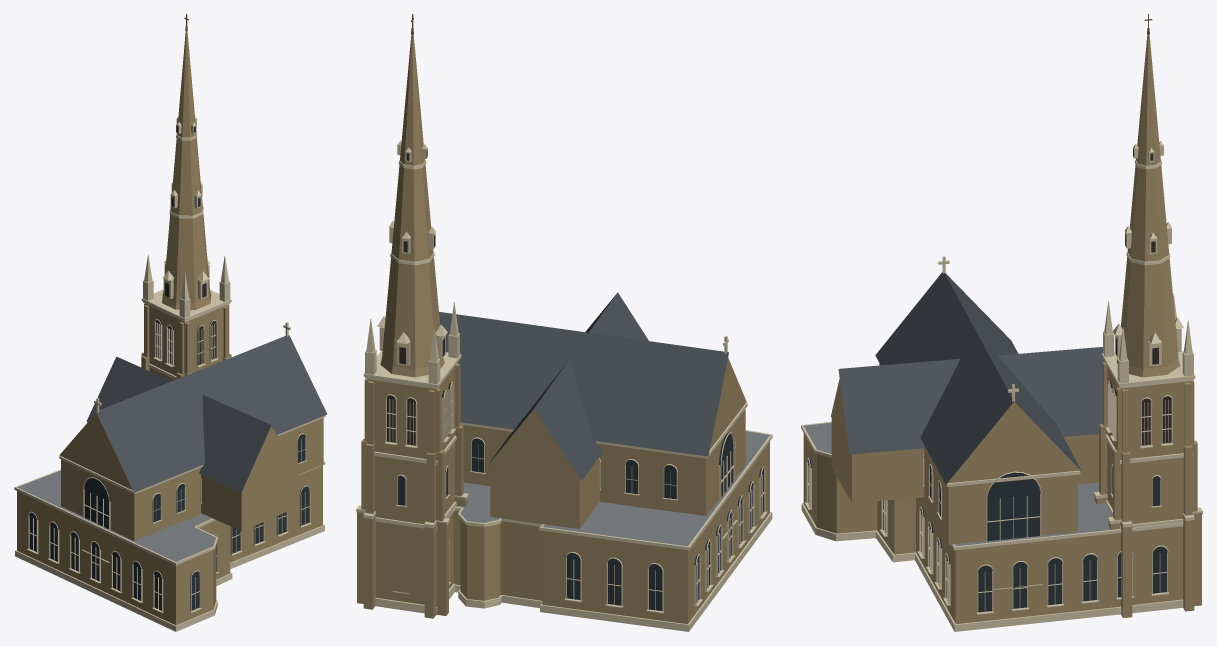
Rendered from st_matthews_bayswater.glb.
3 renders of one model, left to right at view 1: azimuth 30°, elevation 25°; view 2: azimuth 150°, elevation 25°; view 3: azimuth 270°, elevation 25°, orthographic. The views are drawn at different scales.
Bounding box in the file's own units: 43.14 × 76.11 × 47.25.
